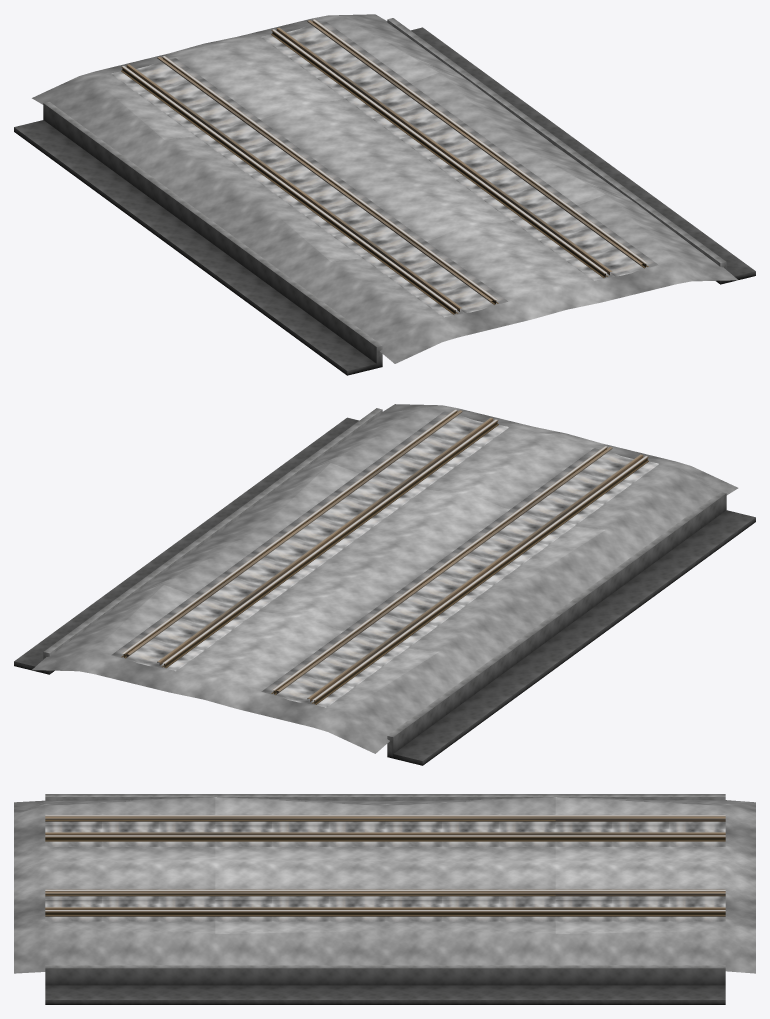
The model's file is NK_2RAIL_50.glb.
The picture shows the model from 3 angles, top to bottom: view 1: azimuth 30°, elevation 25°; view 2: azimuth 150°, elevation 25°; view 3: azimuth 270°, elevation 25°; orthographic projection. The views are drawn at different scales.
Visible parts, largest first — view 1: Jari_All1, R000_RG_R1, R000_RG_L1; view 2: Jari_All1, R000_RG_R1, R000_RG_L1; view 3: Jari_All1, R000_RG_L1, R000_RG_R1.
Boxes of the visible parts, bbox=[...] form: Jari_All1: bbox=[14, 14, 755, 375]; R000_RG_R1: bbox=[126, 27, 612, 311]; R000_RG_L1: bbox=[157, 20, 642, 302]; Jari_All1: bbox=[14, 404, 755, 765]; R000_RG_R1: bbox=[157, 418, 643, 701]; R000_RG_L1: bbox=[126, 410, 612, 693]; Jari_All1: bbox=[14, 794, 755, 1004]; R000_RG_L1: bbox=[45, 832, 725, 909]; R000_RG_R1: bbox=[45, 817, 725, 895].
Size of the model in its own units: 35.42 by 3.35 by 54.53.
Materials: 7 (6 with a texture image).
